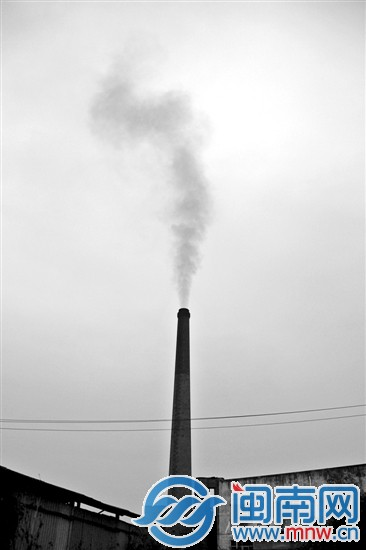dust: (143, 151, 230, 315)
